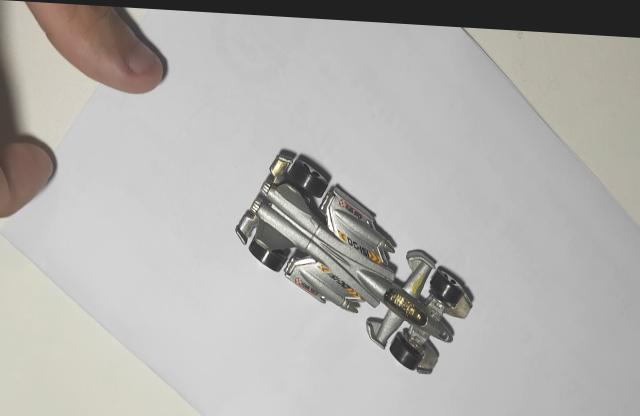05_DC121: (233, 143, 476, 369)
